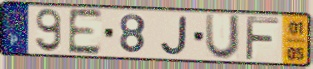8: (119, 13, 148, 55)
9: (34, 7, 64, 54)
E: (67, 7, 104, 57)
F: (243, 15, 281, 62)
J: (159, 14, 189, 57)
U: (203, 12, 243, 62)
